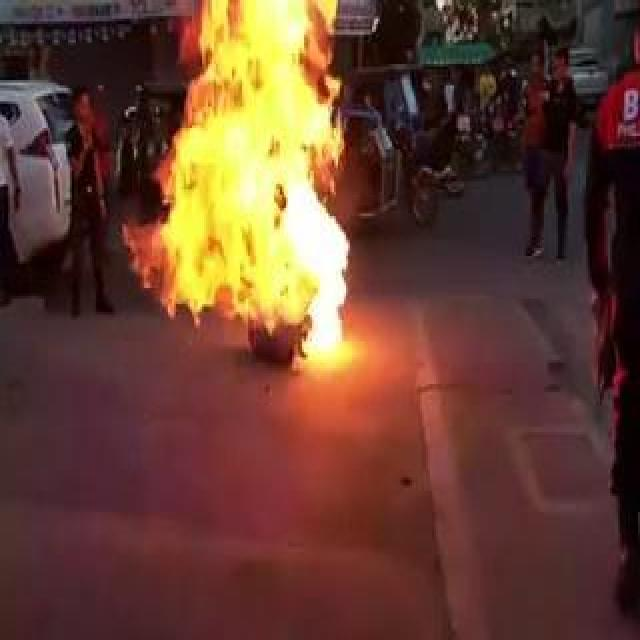Fire: (143, 0, 357, 365)
